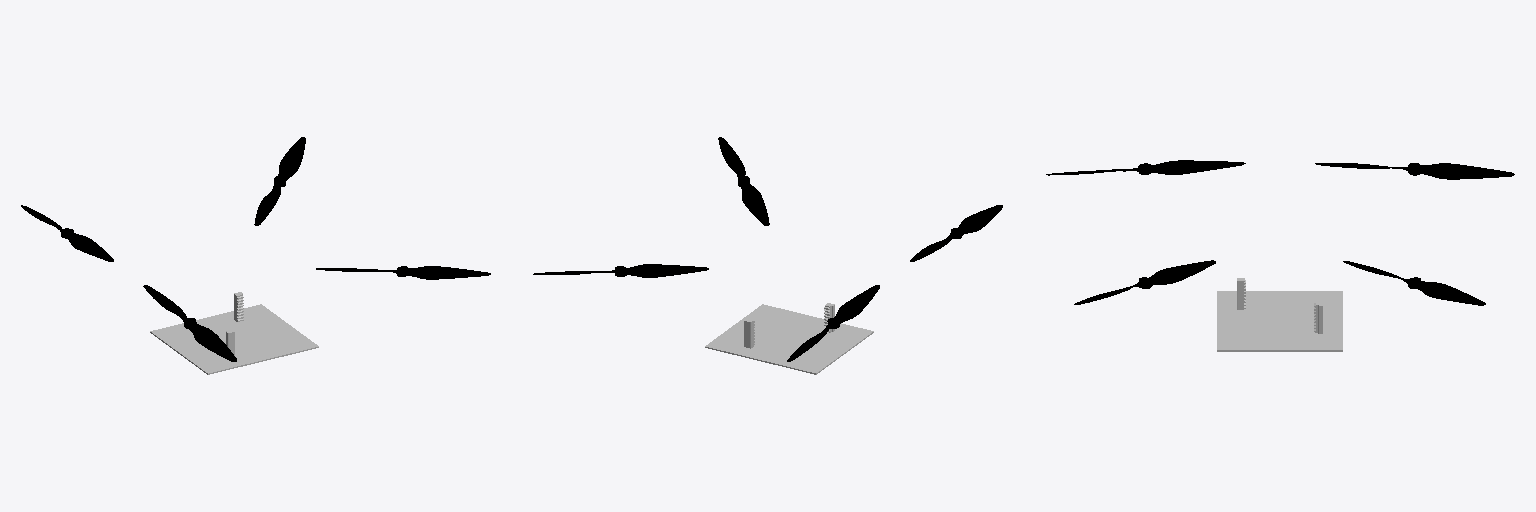
robot.urdf — oxpa_magnet:
<robot name="oxpa_magnet" version="1.0">
  <joint name="gripper_joint" type="fixed">
    <origin rpy="0.00000 0.00000 0.00000" xyz="0.00192 0.00000 -0.09046"/>
    <parent link="base_link"/>
    <child link="gripper_link"/>
  </joint>
  <joint name="rotor_0" type="revolute">
    <limit lower="-3.14000" upper="3.14000" effort="0.00000" velocity="0.00000"/>
    <origin rpy="0.00000 0.00000 0.00000" xyz="0.17281 -0.17000 0.04217"/>
    <parent link="base_link"/>
    <child link="rotor_0_link"/>
    <axis xyz="0.00000 0.00000 1.00000"/>
  </joint>
  <joint name="rotor_1" type="revolute">
    <limit lower="-3.14000" upper="3.14000" effort="0.00000" velocity="0.00000"/>
    <origin rpy="0.00000 0.00000 0.00000" xyz="-0.16699 0.17000 0.04217"/>
    <parent link="base_link"/>
    <child link="rotor_1_link"/>
    <axis xyz="0.00000 0.00000 1.00000"/>
  </joint>
  <joint name="rotor_2" type="revolute">
    <limit lower="-3.14000" upper="3.14000" effort="0.00000" velocity="0.00000"/>
    <origin rpy="0.00000 0.00000 0.00000" xyz="0.17301 0.17000 0.04217"/>
    <parent link="base_link"/>
    <child link="rotor_2_link"/>
    <axis xyz="0.00000 0.00000 1.00000"/>
  </joint>
  <joint name="rotor_3" type="revolute">
    <limit lower="-3.14000" upper="3.14000" effort="0.00000" velocity="0.00000"/>
    <origin rpy="0.00000 0.00000 0.00000" xyz="-0.16699 -0.17000 0.04217"/>
    <parent link="base_link"/>
    <child link="rotor_3_link"/>
    <axis xyz="0.00000 0.00000 1.00000"/>
  </joint>
  
  <link name="base_link">
    <inertial>
      <inertia ixx="0.00100" ixy="0.00000" ixz="0.00000" iyy="0.00100" iyz="0.00000" izz="0.00100"/>
      <origin rpy="0.00000 0.00000 0.00000" xyz="0.005843 0.00060 0.07404"/>
      <mass value="1.98000"/>
    </inertial>
    <visual name="body">
      <origin rpy="0.00000 0.00000 0.00000" xyz="0.00584 0.00060 -0.01846"/>
      <material name="oxpa"/>
      <geometry>
        <mesh filename="./oxpa_meshes/dae/body.dae" scale="1.00000 1.00000 1.00000"/>
      </geometry>
    </visual>
    <collision name= "body_collision">
      <origin rpy="0.00000 0.00000 0.00000" xyz="0.00000 0.00000 0.0000"/>
      <geometry>
        <box size="0.388 0.388 0.1800"/>
      </geometry>
    </collision>
  </link>
  <link name="gripper_link">
    <visual name="gripper_plate">
      <origin rpy="0.00000 0.00000 0.00000" xyz="0.00000 0.00000 0.00000"/>
      <material name="acrylic"/>
      <geometry>
        <mesh filename="./oxpa_meshes/dae/plate.dae" scale="1.00000 1.00000 1.00000"/>
      </geometry>
    </visual>
  </link>
  <link name="rotor_0_link">
    <inertial>
      <inertia ixx="0.00009" ixy="0.00000" ixz="0.00000" iyy="0.00009" iyz="0.00000" izz="0.00018"/>
      <origin rpy="0.00000 0.00000 0.00000" xyz="0.00001 0.00006 -0.00033"/>
      <mass value="0.01100"/>
    </inertial>
    <visual name="rotor_0">
      <origin rpy="-0.00000 0.00000 -0.00000" xyz="0.00000 0.00000 0.00000"/>
      <material name="prop"/>
      <geometry>
        <mesh filename="./oxpa_meshes/dae/rotor0.dae" scale="1.00000 1.00000 1.00000"/>
      </geometry>
    </visual>
    <collision>
      <origin rpy="0.00000 0.00000 0.00000" xyz="0.00000 0.00000 0.00000"/>
      <geometry>
        <cylinder length="0.006" radius="0.127"/>
      </geometry>
    </collision>
  </link>
  <link name="rotor_1_link">
    <inertial>
      <inertia ixx="0.00009" ixy="0.00000" ixz="0.00000" iyy="0.00009" iyz="0.00000" izz="0.00018"/>
      <origin rpy="0.00000 0.00000 0.00000" xyz="0.00003 0.00005 -0.00035"/>
      <mass value="0.01100"/>
    </inertial>
    <visual name="rotor_1">
      <origin rpy="-0.00000 0.00000 -0.00000" xyz="0.00000 0.00000 0.00000"/>
      <material name="prop"/>
      <geometry>
        <mesh filename="./oxpa_meshes/dae/rotor1.dae" scale="1.00000 1.00000 1.00000"/>
      </geometry>
    </visual>
    <collision>
      <origin rpy="0.00000 0.00000 0.00000" xyz="0.00000 -0.00000 0.00000"/>
      <geometry>
        <cylinder length="0.006" radius="0.127"/>
      </geometry>
    </collision>
  </link>
  <link name="rotor_2_link">
    <inertial>
      <inertia ixx="0.00009" ixy="0.00000" ixz="0.00000" iyy="0.00009" iyz="0.00000" izz="0.00018"/>
      <origin rpy="0.00000 0.00000 0.00000" xyz="-0.00014 -0.00013 0.00035"/>
      <mass value="0.01100"/>
    </inertial>
    <visual name="rotor_2">
      <origin rpy="0.00000 0.00000 0.00000" xyz="0.00000 0.00000 0.00000"/>
      <material name="prop"/>
      <geometry>
        <mesh filename="./oxpa_meshes/dae/rotor2.dae" scale="1.00000 1.00000 1.00000"/>
      </geometry>
    </visual>
    <collision>
      <origin rpy="0.00000 0.00000 0.00000" xyz="0.00000 -0.00000 0.00000"/>
      <geometry>
        <cylinder length="0.006" radius="0.127"/>
      </geometry>
    </collision>
  </link>
  <link name="rotor_3_link">
    <inertial>
      <inertia ixx="0.00009" ixy="0.00000" ixz="0.00000" iyy="0.00009" iyz="0.00000" izz="0.00018"/>
      <origin rpy="0.00000 0.00000 0.00000" xyz="-0.00004 0.00061 0.00036"/>
      <mass value="0.01100"/>
    </inertial>
    <visual name="rotor_3">
      <origin rpy="0.00000 0.00000 0.00000" xyz="0.00000 0.00000 0.00000"/>
      <material name="prop"/>
      <geometry>
        <mesh filename="./oxpa_meshes/dae/rotor3.dae" scale="1.00000 1.00000 1.00000"/>
      </geometry>
    </visual>
    <collision>
      <origin rpy="0.00000 0.00000 0.00000" xyz="0.00000 -0.00000 0.00000"/>
      <geometry>
        <cylinder length="0.006" radius="0.127"/>
      </geometry>
    </collision>
  </link>
  
  <material name="acrylic">
    <color rgba="0.80000 0.80000 0.80000 1.00000"/>
  </material>
  <material name="oxpa">
    <texture filename="./oxpa_meshes/dae/oxpa_albedo.png"/>
    <color rgba="0.80000 0.80000 0.80000 1.00000"/>
  </material>
</robot>

--- Render facts (derived) ---
Views: 3 orthographic renders of the robot side by side, from view 1: azimuth 30°, elevation 25°; view 2: azimuth 150°, elevation 25°; view 3: azimuth 270°, elevation 25°.
Model oxpa_magnet with 6 links and 5 joints (4 revolute, 1 fixed), rooted at base_link, posed every joint at zero.
Visible links, largest first — view 1: gripper_link, rotor_3_link, rotor_2_link, rotor_0_link, rotor_1_link; view 2: gripper_link, rotor_0_link, rotor_2_link, rotor_1_link, rotor_3_link; view 3: gripper_link, rotor_1_link, rotor_3_link, rotor_0_link, rotor_2_link.
Link boxes in pixels (bbox=[...]): gripper_link: bbox=[150, 292, 318, 374]; rotor_3_link: bbox=[143, 285, 236, 361]; rotor_2_link: bbox=[254, 137, 305, 225]; rotor_0_link: bbox=[316, 266, 490, 279]; rotor_1_link: bbox=[21, 205, 113, 261]; gripper_link: bbox=[705, 303, 873, 374]; rotor_0_link: bbox=[718, 137, 769, 225]; rotor_2_link: bbox=[533, 264, 708, 277]; rotor_1_link: bbox=[787, 285, 879, 361]; rotor_3_link: bbox=[910, 205, 1002, 261]; gripper_link: bbox=[1217, 278, 1342, 351]; rotor_1_link: bbox=[1315, 163, 1514, 179]; rotor_3_link: bbox=[1046, 160, 1245, 175]; rotor_0_link: bbox=[1074, 260, 1215, 304]; rotor_2_link: bbox=[1343, 261, 1485, 305].
Bounding box of the posed robot: 0.4436 × 0.594 × 0.1452 m (x, y, z).
5 mesh visuals loaded from 6 distinct referenced files (5 Collada DAE); not drawn: 1 (reference not matched to a file when rendering).
